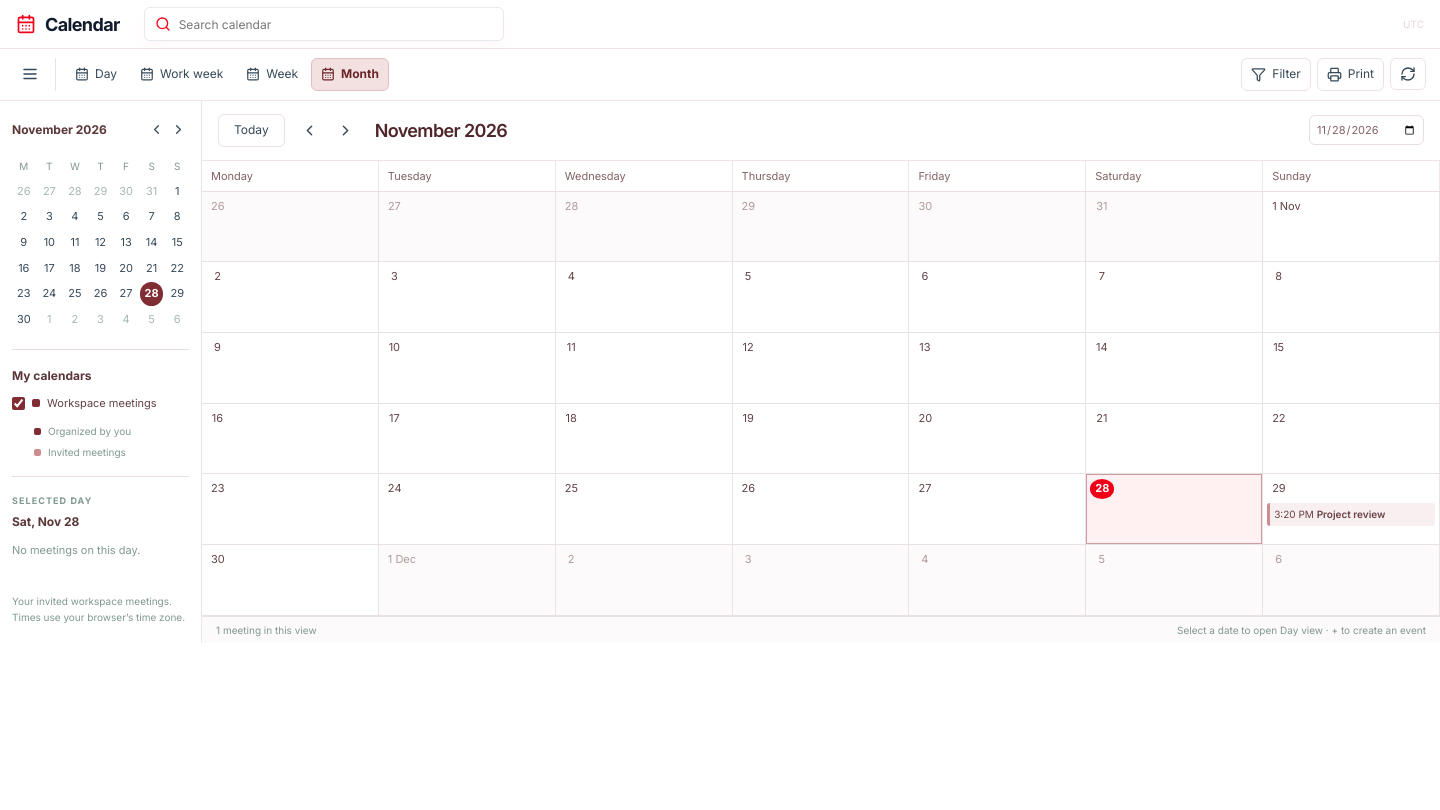
Test case: Meetings dashboard › uses the same record in Calendar and opens its details
This screenshot has width=1440, height=810.
Click the button "3:20 PM Project review": (1351, 514) [1267,503,1435,526]
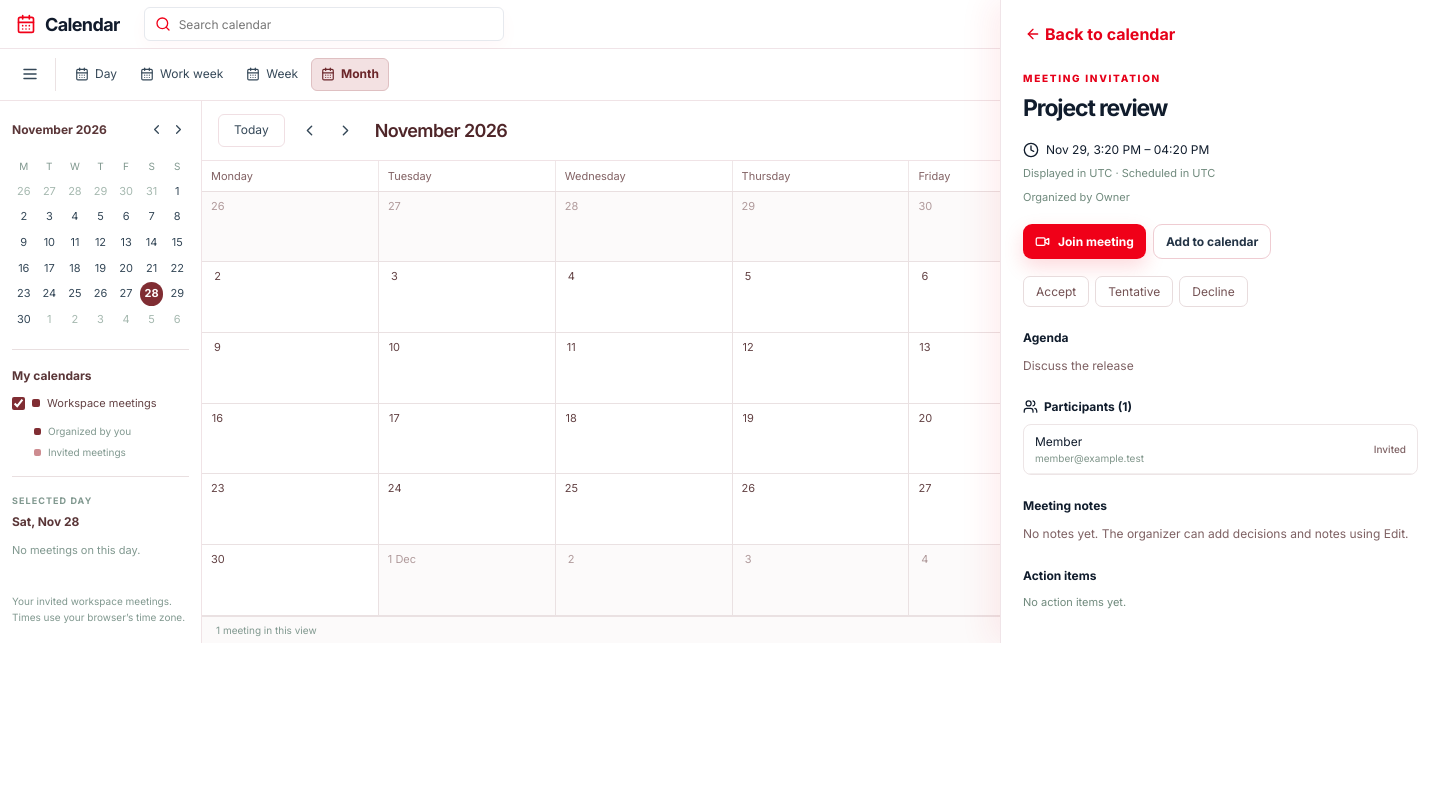
Check: the text "Discuss the release" is shown, box [1023,358,1134,373]
